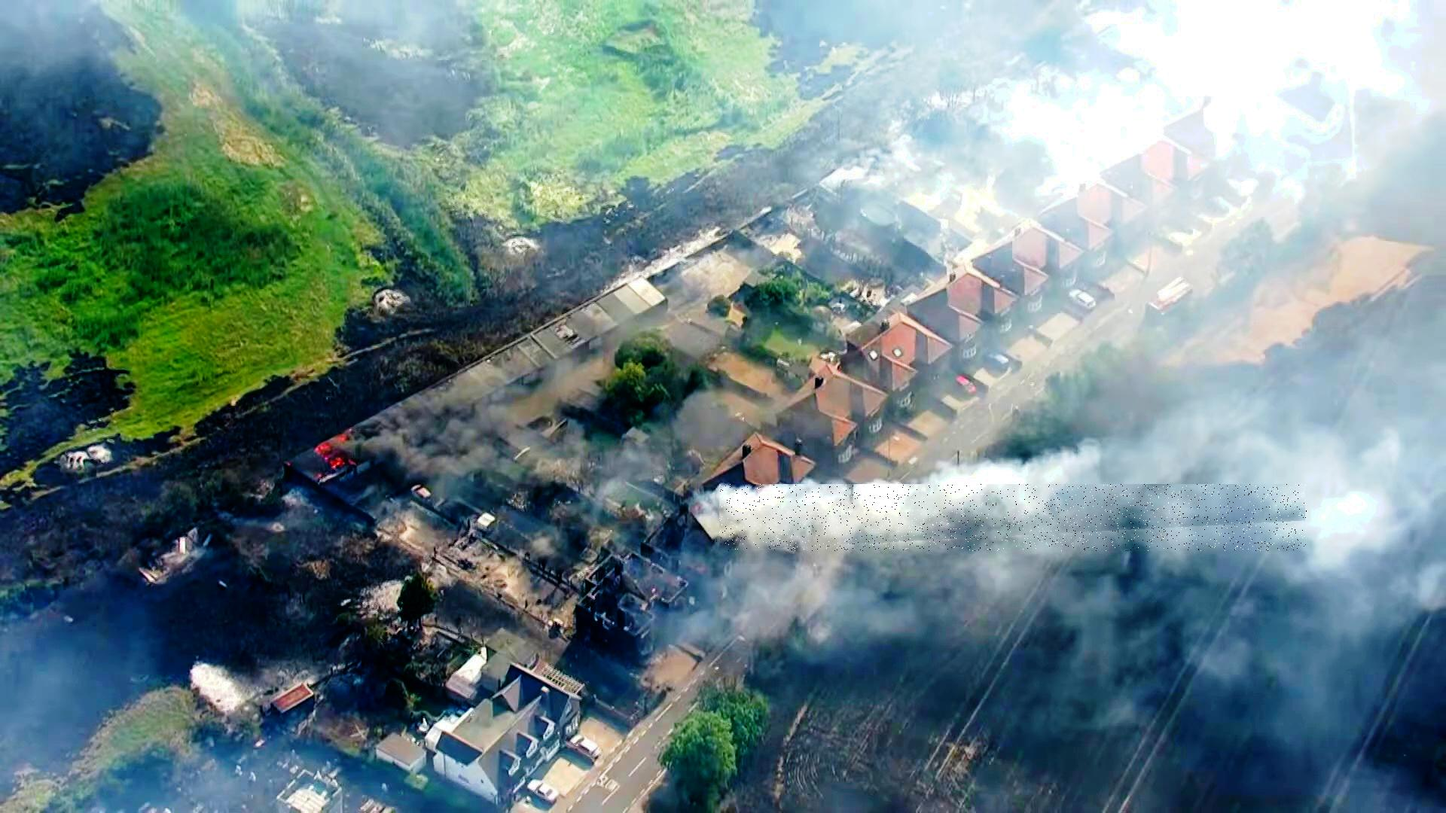smoke: (720, 484, 1308, 551)
